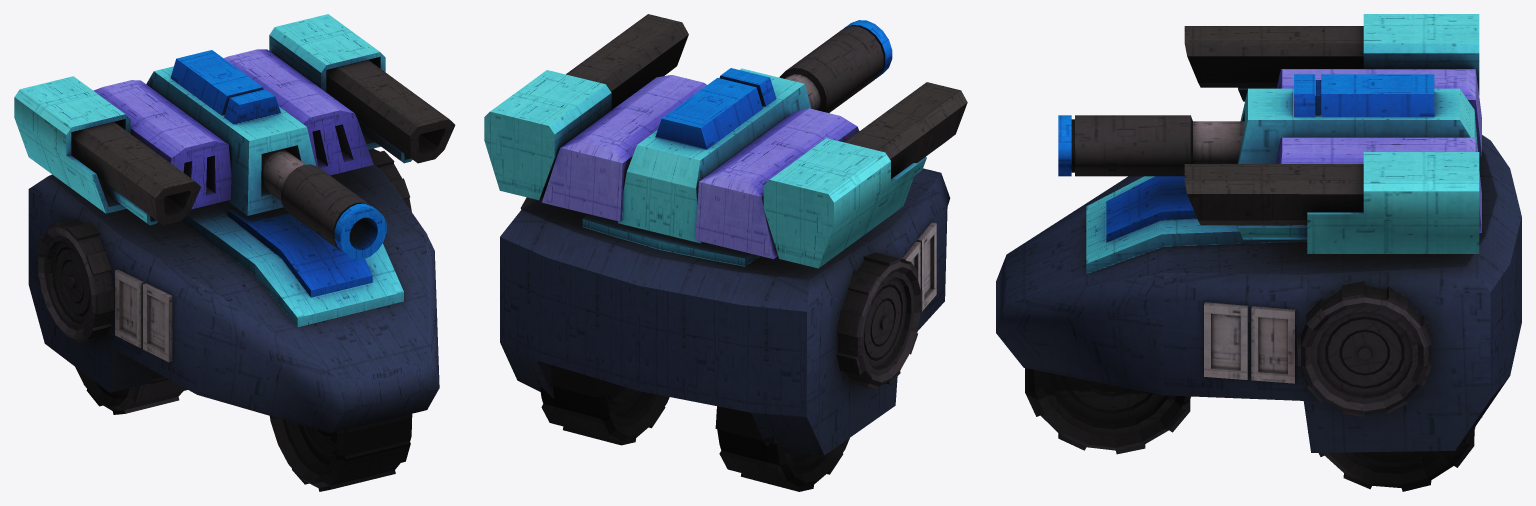
File: PlayerA9.obj
The picture shows the model from 3 angles, left to right: view 1: azimuth 30°, elevation 25°; view 2: azimuth 150°, elevation 25°; view 3: azimuth 270°, elevation 25°; orthographic projection. The views are drawn at different scales.
Parts seen in each view (by area): view 1: Object001, Object002, Object004, Object003; view 2: Object001, Object002, Object003; view 3: Object001, Object002, Object004, Object003.
Part boxes in pixels (left/top/right/bottom): Object001: left=28, top=49, right=439, bottom=433; Object002: left=14, top=14, right=455, bottom=225; Object004: left=269, top=414, right=412, bottom=491; Object003: left=75, top=367, right=187, bottom=414; Object001: left=500, top=20, right=950, bottom=455; Object002: left=484, top=14, right=967, bottom=268; Object003: left=537, top=365, right=849, bottom=491; Object001: left=996, top=69, right=1521, bottom=452; Object002: left=1184, top=14, right=1479, bottom=253; Object004: left=1025, top=368, right=1190, bottom=454; Object003: left=1308, top=415, right=1482, bottom=491.
Bounding box in the file's own units: 93.13 × 88.04 × 119.
Materials: 1 (1 with a texture image).
